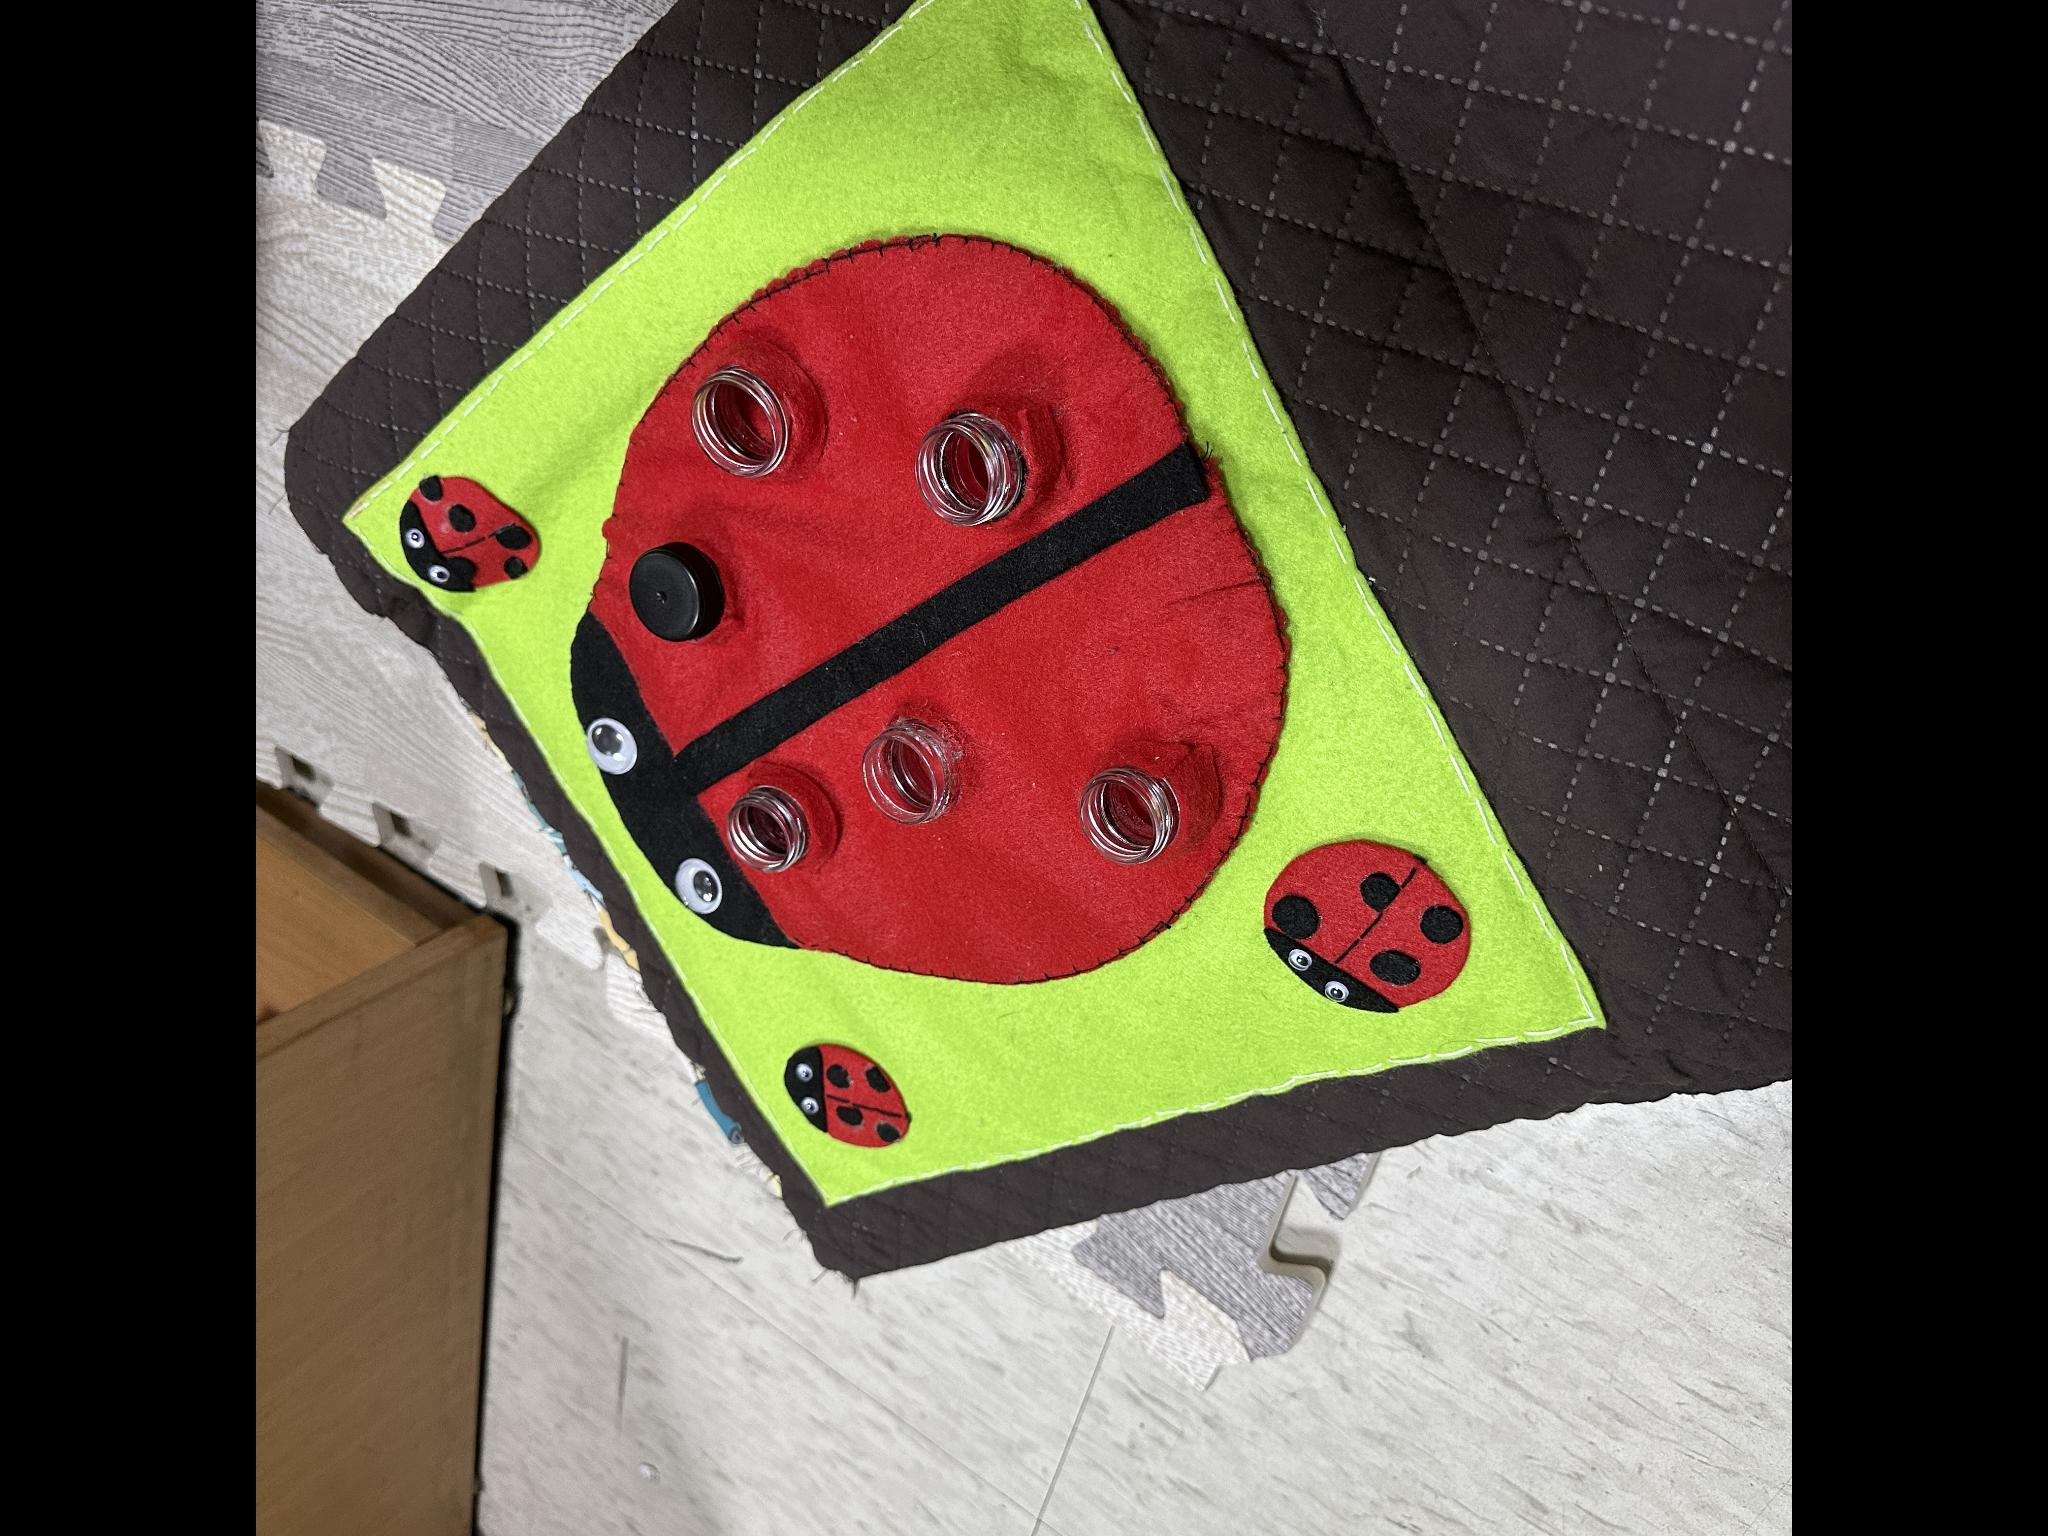cap_ok: (613, 526, 764, 673)
